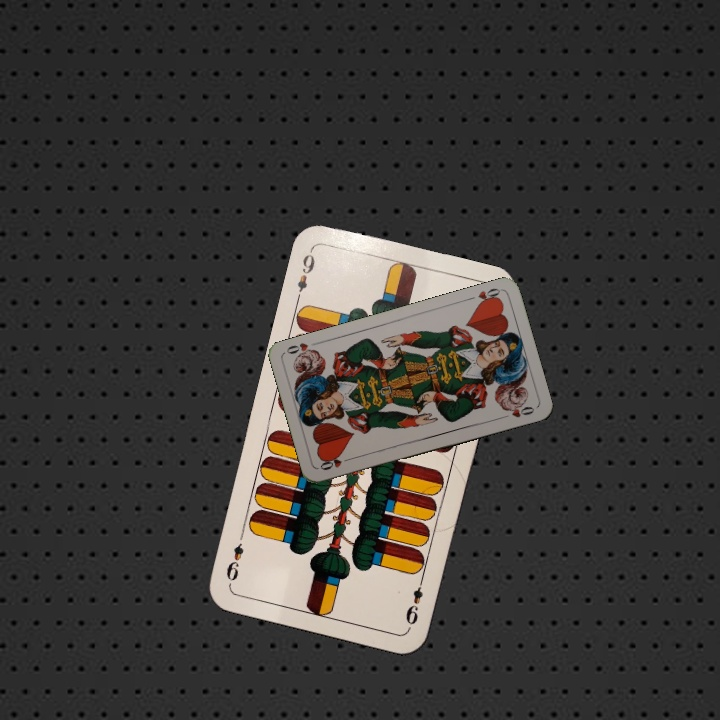E9: (292, 245, 318, 303), (401, 572, 427, 628)
HO: (463, 284, 503, 308), (316, 454, 356, 473)
